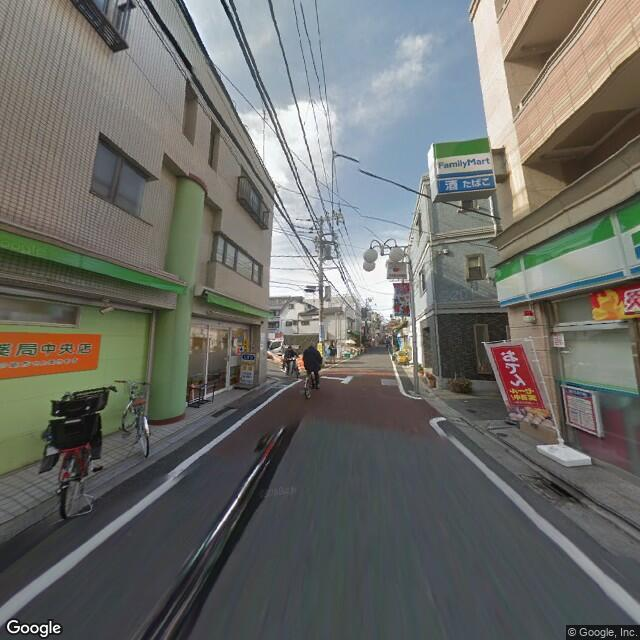family_mart: (495, 193, 639, 312), (432, 134, 494, 186)
